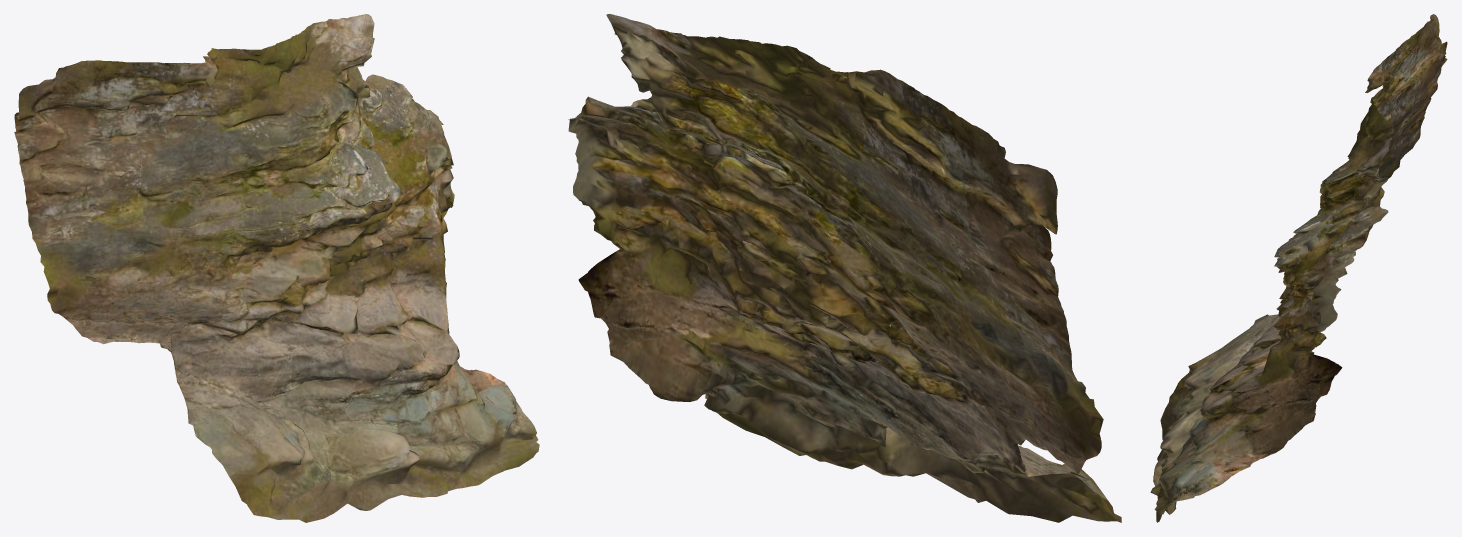
File: rock_face.glb
The picture shows the model from 3 angles, left to right: view 1: azimuth 30°, elevation 25°; view 2: azimuth 150°, elevation 25°; view 3: azimuth 270°, elevation 25°; orthographic projection. The views are drawn at different scales.
Visible parts, largest first — view 1: rock_face; view 2: rock_face; view 3: rock_face.
Boxes of the visible parts, <box> form: rock_face: <box>14,14,539,522</box>; rock_face: <box>568,14,1121,522</box>; rock_face: <box>1150,14,1447,522</box>.
Bounding box in the file's own units: 4.8 × 4.67 × 3.42.
Materials: 1 (1 with a texture image).
